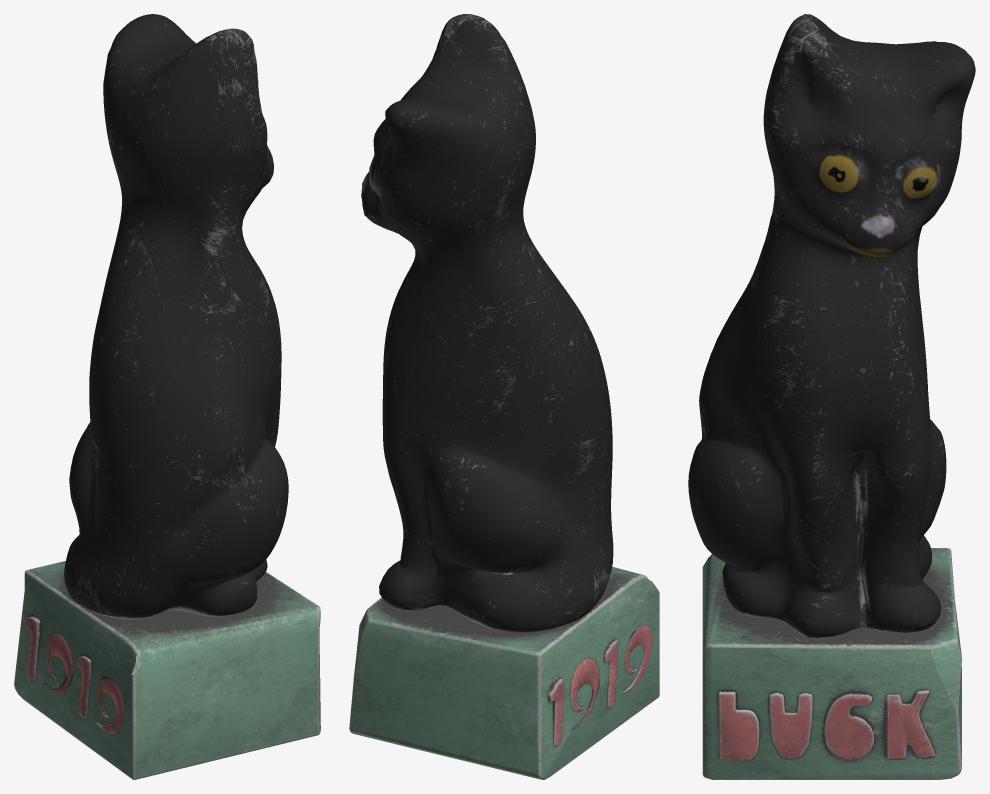
Rendered from cat.glb.
3 views of the same model, side by side, from view 1: azimuth 30°, elevation 25°; view 2: azimuth 150°, elevation 25°; view 3: azimuth 270°, elevation 25° (orthographic). The views are drawn at different scales.
Parts seen in each view (by area): view 1: LuckyBlackCat; view 2: LuckyBlackCat; view 3: LuckyBlackCat.
Boxes of the visible parts, left/top/right/bottom form: LuckyBlackCat: left=14, top=14, right=320, bottom=779; LuckyBlackCat: left=349, top=14, right=659, bottom=779; LuckyBlackCat: left=688, top=14, right=975, bottom=779.
Bounding box in the file's own units: 0.1356 × 0.4066 × 0.144.
Materials: 2 (2 with a texture image).
